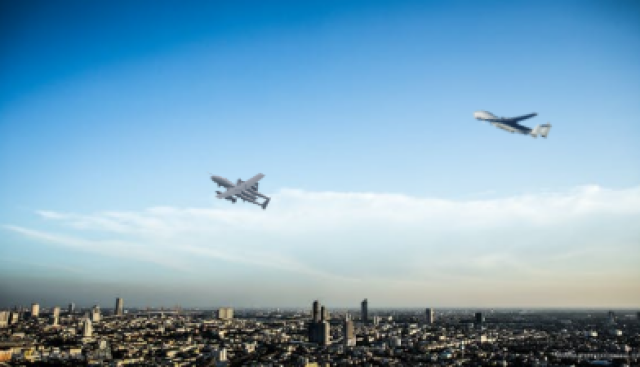military drone: (206, 171, 271, 210), (472, 109, 552, 139)
